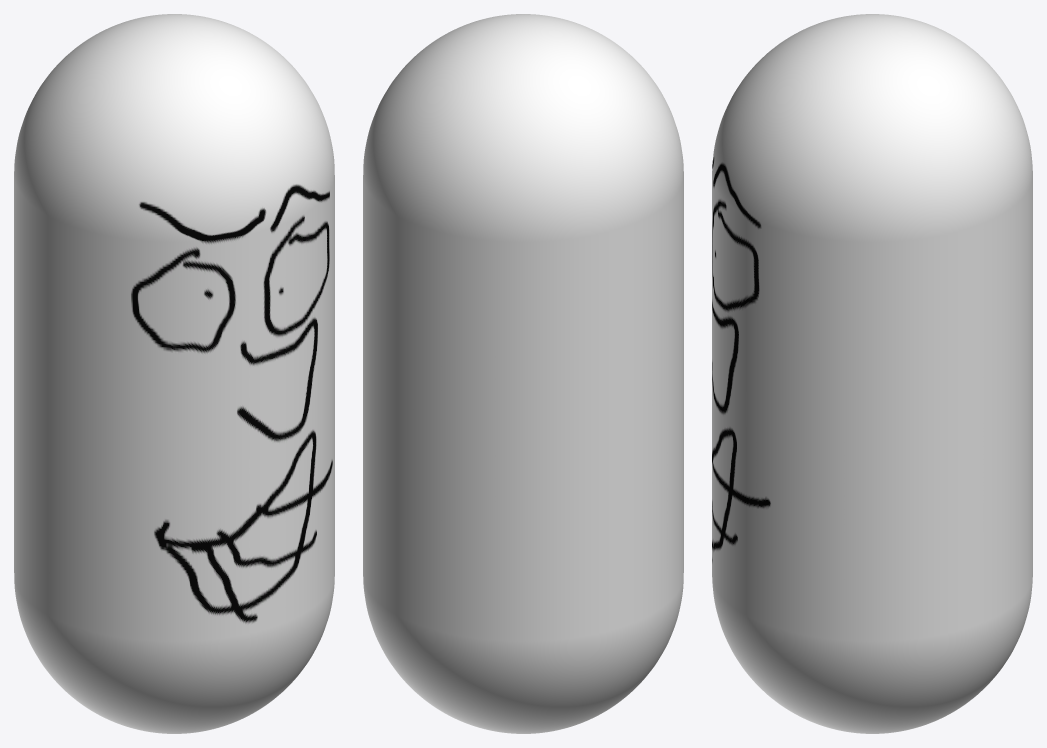
File: PlaceholderChar.fbx
3 renders of one model, left to right at view 1: azimuth 30°, elevation 25°; view 2: azimuth 150°, elevation 25°; view 3: azimuth 270°, elevation 25°, orthographic.
Visible parts, largest first — view 1: root; view 2: root; view 3: root.
Boxes of the visible parts, x1=… form: root: x1=14, y1=14, x2=334, y2=733; root: x1=363, y1=14, x2=683, y2=733; root: x1=712, y1=14, x2=1032, y2=733.
Size of the model in its own units: 0.2465 by 0.5849 by 0.2465.
Materials: 1 (1 with a texture image).
